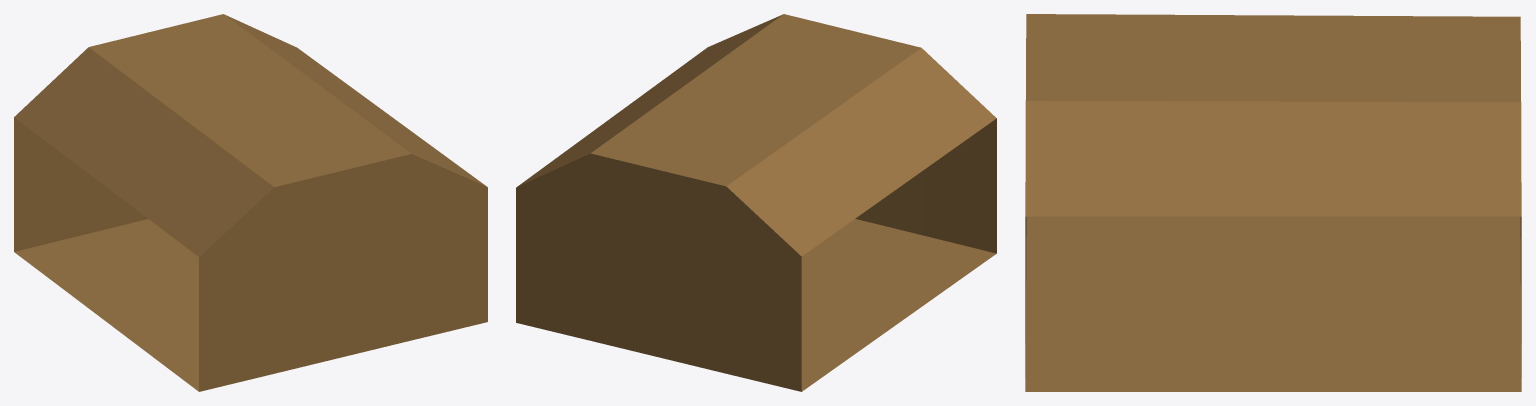
File: PathwayRaisedTop.fbx
3 views of the same model, side by side, from view 1: azimuth 30°, elevation 25°; view 2: azimuth 150°, elevation 25°; view 3: azimuth 270°, elevation 25° (orthographic). The views are drawn at different scales.
Visible parts, largest first — view 1: PathwayRaisedTop; view 2: PathwayRaisedTop; view 3: PathwayRaisedTop.
Boxes of the visible parts, x1,y1,x2,y2 form: PathwayRaisedTop: (14, 14, 487, 391); PathwayRaisedTop: (516, 14, 996, 391); PathwayRaisedTop: (1025, 14, 1521, 391).
Bounding box in the file's own units: 511 × 316 × 586.
